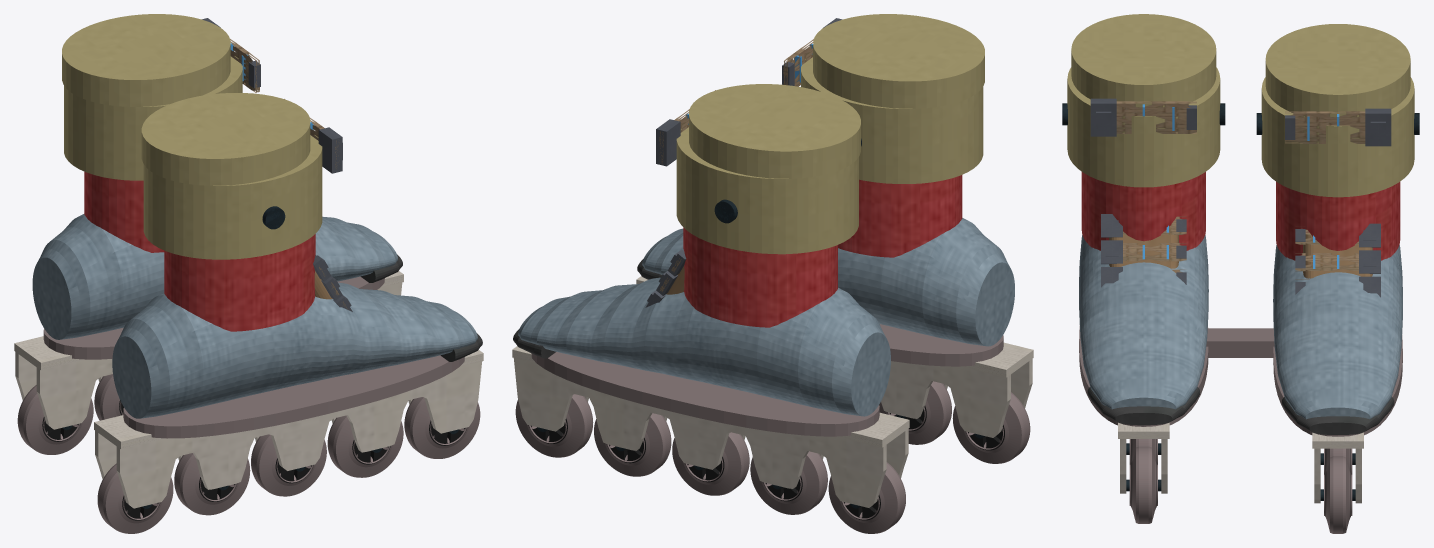
The model's file is Sports_Roller_scates__0031.glb.
The picture shows the model from 3 angles, left to right: view 1: azimuth 30°, elevation 25°; view 2: azimuth 150°, elevation 25°; view 3: azimuth 270°, elevation 25°; orthographic projection. The views are drawn at different scales.
Parts seen in each view (by area): view 1: right_boot::shell, left_boot::shell, right_frame::rail_lateral, right_cuff::collar, right_cuff::upper_collar, left_cuff::upper_collar, right_boot::padded_collar, right_boot::sole, left_cuff::collar, left_frame::rail_medial, left_boot::padded_collar, right_wheel_4::tire (+13 smaller); view 2: left_boot::shell, right_boot::shell, left_frame::rail_lateral, left_cuff::collar, left_cuff::upper_collar, right_cuff::upper_collar, left_boot::padded_collar, left_boot::sole, right_cuff::collar, right_boot::padded_collar, right_frame::rail_medial, right_boot::sole (+12 smaller); view 3: left_boot::shell, right_boot::shell, left_cuff::upper_collar, right_cuff::upper_collar, left_cuff::collar, right_cuff::collar, left_boot::padded_collar, right_boot::padded_collar, left_boot::pair_clip, right_wheel_0::tire, left_wheel_0::tire, right_cuff::power_strap_0 (+13 smaller).
Part boxes in pixels (box(x1,y1,x2,y2)): right_boot::shell: box(112, 282, 477, 418); left_boot::shell: box(32, 214, 397, 339); right_frame::rail_lateral: box(116, 361, 481, 508); right_cuff::collar: box(143, 135, 322, 259); right_cuff::upper_collar: box(141, 93, 310, 185); left_cuff::upper_collar: box(62, 14, 230, 106); right_boot::padded_collar: box(164, 234, 315, 331); right_boot::sole: box(123, 355, 464, 438); left_cuff::collar: box(64, 56, 242, 180); left_frame::rail_medial: box(36, 282, 402, 429); left_boot::padded_collar: box(84, 171, 164, 252); right_wheel_4::tire: box(97, 463, 173, 533); left_boot::shell: box(518, 277, 890, 416); right_boot::shell: box(642, 218, 1014, 346); left_frame::rail_lateral: box(513, 358, 886, 507); left_cuff::collar: box(676, 124, 858, 254); left_cuff::upper_collar: box(689, 84, 860, 178); right_cuff::upper_collar: box(813, 14, 984, 108); left_boot::padded_collar: box(683, 227, 837, 327); left_boot::sole: box(531, 352, 879, 436); right_cuff::collar: box(801, 54, 983, 183); right_boot::padded_collar: box(838, 175, 962, 257); right_frame::rail_medial: box(881, 361, 1010, 437); right_boot::sole: box(879, 324, 1003, 366); left_boot::shell: box(1273, 245, 1402, 419); right_boot::shell: box(1079, 235, 1208, 409); left_cuff::upper_collar: box(1265, 24, 1410, 117); right_cuff::upper_collar: box(1071, 14, 1216, 107); left_cuff::collar: box(1261, 77, 1414, 197); right_cuff::collar: box(1067, 67, 1220, 187); left_boot::padded_collar: box(1276, 181, 1400, 260); right_boot::padded_collar: box(1081, 172, 1205, 250); left_boot::pair_clip: box(1206, 328, 1274, 357); right_wheel_0::tire: box(1129, 446, 1157, 523); left_wheel_0::tire: box(1324, 456, 1352, 533); right_cuff::power_strap_0: box(1116, 101, 1196, 133).
Bounding box in the file's own units: 0.3416 × 0.3146 × 0.276.
13 materials, 10 textured.
